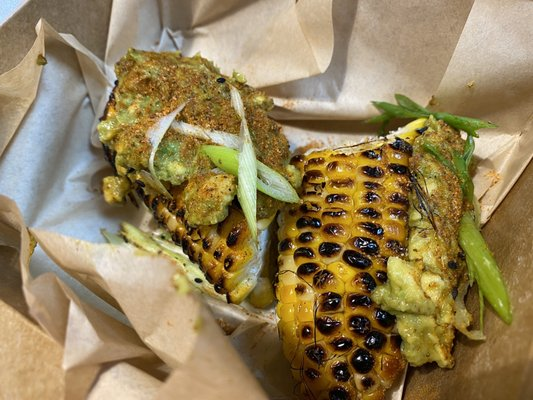soup: (94, 46, 300, 303)
